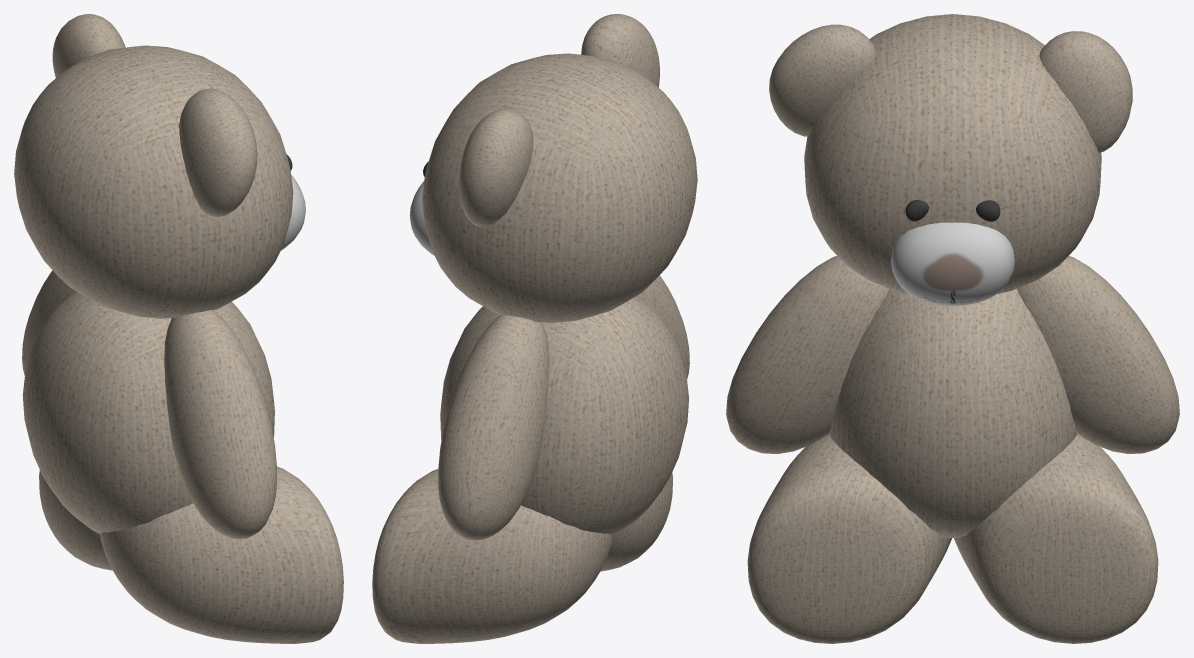
Rendered from teddy_bear.glb.
The picture shows the model from 3 angles, left to right: view 1: azimuth 30°, elevation 25°; view 2: azimuth 150°, elevation 25°; view 3: azimuth 270°, elevation 25°; orthographic projection. The views are drawn at different scales.
Parts seen in each view (by area): view 1: Face_Baked, Body_Baked, Legs_Baked, Hands_Baked, Ear L_Baked, Ear R_Baked, Mouth_Baked; view 2: Face_Baked, Body_Baked, Legs_Baked, Hands_Baked, Ear R_Baked, Ear L_Baked, Mouth_Baked; view 3: Face_Baked, Legs_Baked, Body_Baked, Hands_Baked, Mouth_Baked, Ear L_Baked, Ear R_Baked, Eyes_Baked.
Boxes of the visible parts, box(x1,y1,x2,y2) form: Face_Baked: box(14, 45, 293, 318); Body_Baked: box(22, 291, 274, 533); Legs_Baked: box(39, 466, 343, 643); Hands_Baked: box(22, 270, 276, 538); Ear L_Baked: box(179, 88, 257, 216); Ear R_Baked: box(52, 14, 125, 77); Mouth_Baked: box(281, 175, 305, 250); Face_Baked: box(422, 53, 697, 322); Body_Baked: box(440, 296, 688, 535); Legs_Baked: box(372, 469, 672, 643); Hands_Baked: box(438, 275, 689, 539); Ear R_Baked: box(459, 109, 533, 226); Ear L_Baked: box(581, 14, 659, 87); Mouth_Baked: box(409, 181, 434, 255); Face_Baked: box(804, 14, 1101, 293); Legs_Baked: box(747, 434, 1158, 643); Body_Baked: box(828, 289, 1077, 537); Hands_Baked: box(726, 256, 1179, 453); Mouth_Baked: box(891, 222, 1014, 306); Ear L_Baked: box(769, 24, 876, 136); Ear R_Baked: box(1039, 31, 1132, 152); Eyes_Baked: box(905, 200, 1000, 221).
Size of the model in its own units: 0.5134 by 1.07 by 0.7593.
Materials: 8 (8 with a texture image).
